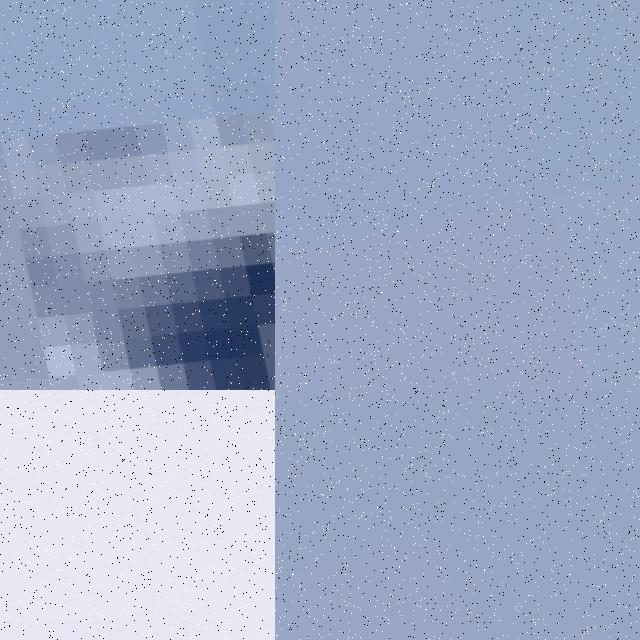drone: (0, 0, 275, 390), (0, 390, 275, 640)
